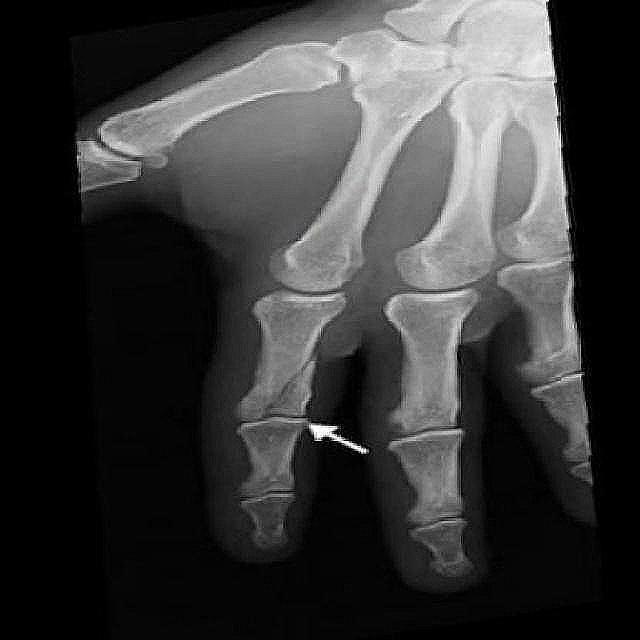bone: (235, 326, 332, 417)
